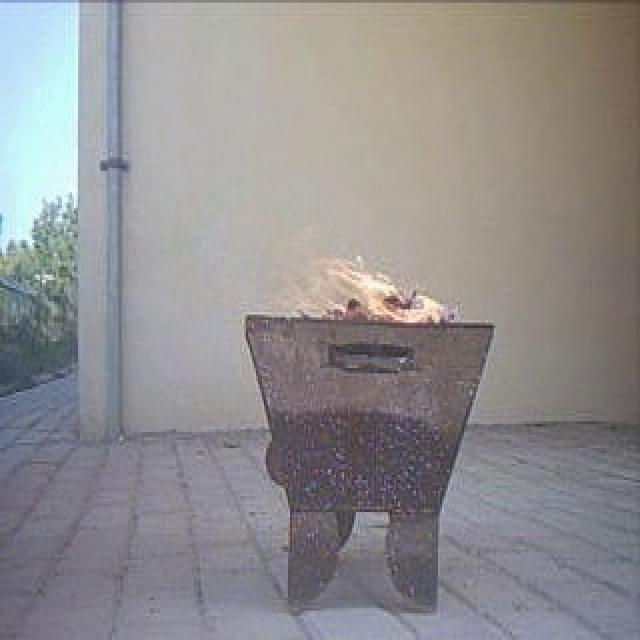fire: (318, 258, 431, 316)
